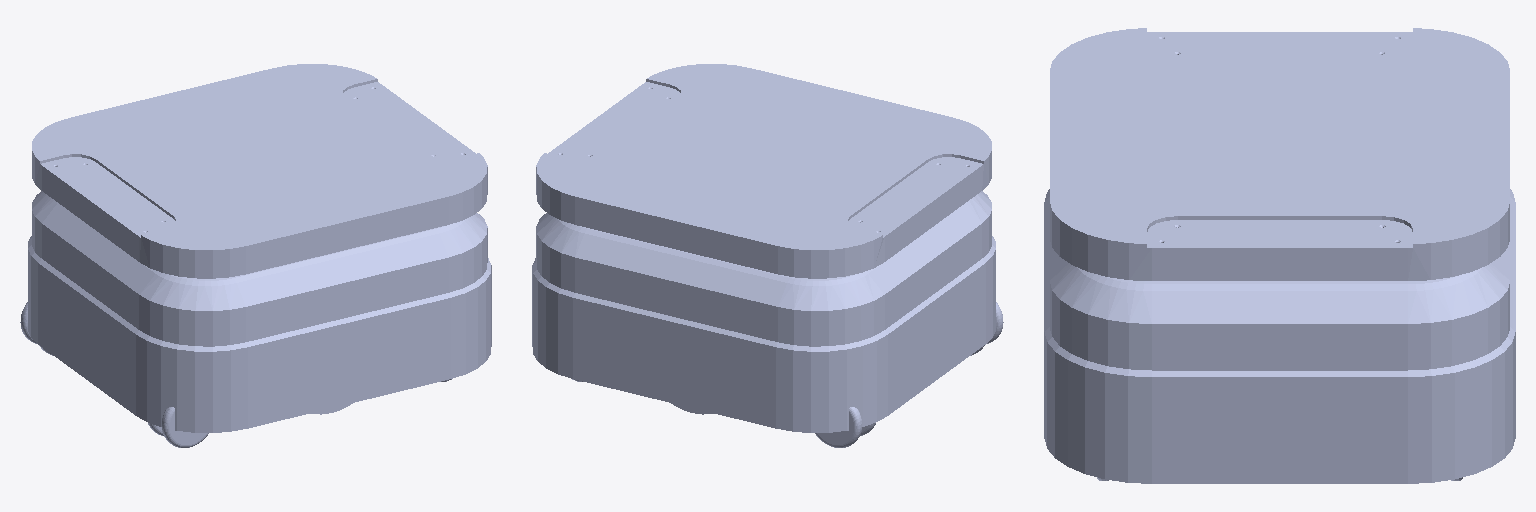
--- What the picture shows (computed from the rendered views, not written in the file) ---
3 views of the same robot in one strip: view 1: azimuth 30°, elevation 25°; view 2: azimuth 150°, elevation 25°; view 3: azimuth 270°, elevation 25° (orthographic).
Model autoxing with 14 links and 13 joints (10 continuous, 3 fixed), rooted at base_footprint, posed all joints at 0.
Visible links, largest first — view 1: chassis, wheel_rb; view 2: chassis, wheel_lb; view 3: chassis.
Link boxes in pixels (x1,y1,x2,y2): chassis: (28, 64, 491, 432); wheel_rb: (148, 407, 208, 447); chassis: (532, 64, 995, 432); wheel_lb: (815, 407, 875, 447); chassis: (1044, 28, 1515, 483).
Size in the robot's own frame: 0.51 by 0.46 by 0.2875 metres.
11 mesh visuals loaded from 10 distinct referenced files (10 binary STL).

robot.urdf — autoxing:
<?xml version="1.0" encoding="utf-8"?>
<!-- This URDF was automatically created by SolidWorks to URDF Exporter! Originally created by Stephen Brawner ([email redacted]) 
     Commit Version: 1.6.0-4-g7f85cfe  Build Version: 1.6.7995.38578
     For more information, please see http://wiki.ros.org/sw_urdf_exporter -->
<robot
  name="autoxing">
   <link
    name="base_footprint">
   
  </link>
    
  <link
    name="chassis">
    <inertial>
      <origin
        xyz="0.000149481705181087 -0.000120539934038988 0.152123091903942"
        rpy="0 0 0" />
      <mass
        value="116.0" />
      <inertia ixx="2.0609325089599997" ixy="0.0" ixz="0.0" iyy="4.34999826" iyz="0.0" izz="5.54093111696"/>
    </inertial>
    <visual>
      <origin
        xyz="0 0 0"
        rpy="0 0 0" />
      <geometry>
        <mesh
          filename="package://autoxing/meshes/base_link.STL" />
      </geometry>
      <material
        name="">
        <color
          rgba="0.792156862745098 0.819607843137255 0.933333333333333 1" />
      </material>
    </visual>
    <collision>
      <origin
        xyz="0 0 0"
        rpy="0 0 0" />
      <geometry>
        <mesh
          filename="package://autoxing/meshes/base_link.STL" />
      </geometry>
    </collision>
  </link>
 
  <joint
    name="base_link_it"
    type="fixed">
    <origin
      xyz="0 0 0"
      rpy="0 0 0" />
    <parent
      link="base_footprint" />
    <child
      link="chassis" />
    <axis
      xyz="0 0 0" />
  </joint>
 
  <link
    name="wheel_left">
    <inertial>
      <origin
        xyz="-1.38777878078145E-16 -7.97972798949331E-17 0.0399999999999999"
        rpy="0 0 0" />
      <mass
        value="1" />
      <inertia ixx="0.001061895408575" ixy="0.0" ixz="0.0" iyy="0.001061895408575" iyz="0.0" izz="0.001953125"/>
    </inertial>
    <visual>
      <origin
        xyz="0 0 0"
        rpy="0 0 0" />
      <geometry>
        
	<cylinder radius="0.08" length="0.05"/>
      </geometry>
      <material
        name="">
        <color
          rgba="0.792156862745098 0.819607843137255 0.933333333333333 1" />
      </material>
    </visual>
    <collision>
   
      <origin
        xyz="0 0 0"
        rpy="0 0 0" />
      <geometry>
	<cylinder radius="0.08" length="0.05"/>
      </geometry>
    </collision>
  </link>
  <joint
    name="wheel_left_joint"
    type="continuous">
    <origin
      xyz="0 0.160461283375568 0.001"
      rpy="-1.5707963267949 0 0" />
    <parent
      link="chassis" />
    <child
      link="wheel_left" />
    <axis
      xyz="0 0 1" />
  </joint>
  <link
    name="wheel_right">
    <inertial>
      <origin
        xyz="-1.38777878078145E-17 1.04083408558608E-17 0.0399999999999999"
        rpy="0 0 0" />
      <mass
        value="1" />
       <inertia ixx="0.001061895408575" ixy="0.0" ixz="0.0" iyy="0.001061895408575" iyz="0.0" izz="0.001953125"/>
    </inertial>
    <visual>
      <origin
        xyz="0 0 0"
        rpy="0 0 0" />
      <geometry>
         
	<cylinder radius="0.08" length="0.05"/>
      </geometry>
      <material
        name="">
        <color
          rgba="0.792156862745098 0.819607843137255 0.933333333333333 1" />
      </material>
    </visual>
    <collision>
      <origin
        xyz="0 0 0"
        rpy="0 0 0" />
      <geometry>
        
          <cylinder radius="0.08" length="0.05"/>
      </geometry>
    </collision>
  </link>
  <joint
    name="wheel_right_joint"
    type="continuous">
    <origin
      xyz="0 -0.160461283375569 0.001"
      rpy="1.5707963267949 0 0" />
    <parent
      link="chassis" />
    <child
      link="wheel_right" />
    <axis
      xyz="0 0 -1" />
  </joint>
  <link
    name="casterhub_front_left">
    <inertial>
      <origin
        xyz="0.00631384572851573 -0.00939402891827468 -7.51390670640402E-05"
        rpy="0 0 0" />
      <mass
        value="0.0507301916211751" />
      <inertia
        ixx="2.13076622334858E-05"
        ixy="-4.77213305526971E-12"
        ixz="-2.15459256741868E-07"
        iyy="2.12936580660824E-05"
        iyz="-3.18977689924232E-11"
        izz="9.21167172411273E-06" />
    </inertial>
    <visual>
      <origin
        xyz="0 0 0"
        rpy="0 0 0" />
      <geometry>
        <mesh
          filename="package://autoxing/meshes/casterhub_front_left.STL" />
      </geometry>
      <material
        name="">
        <color
          rgba="0.792156862745098 0.819607843137255 0.933333333333333 1" />
      </material>
    </visual>
    <collision>
      <origin
        xyz="0 0 0"
        rpy="0 0 0" />
      <geometry>
        <mesh
          filename="package://autoxing/meshes/casterhub_front_left.STL" />
      </geometry>
    </collision>
  </link>
  <joint
    name="casterhub_front_left_joint"
    type="continuous">
    <origin
      xyz="0.191588642505787 0.16140857130743 0.00300000000000051"
      rpy="0 0 0" />
    <parent
      link="chassis" />
    <child
      link="casterhub_front_left" />
    <axis
      xyz="0 0 1" />
       <dynamics damping="0.01" friction="0.0" />
  </joint>
  <link
    name="wheel_lf">
    <inertial>
      <origin
        xyz="2.77555756156289E-17 3.46944695195361E-17 0.0275000000000001"
        rpy="0 0 0" />
      <mass
        value="1" />
      <inertia ixx="0.001061895408575" ixy="0.0" ixz="0.0" iyy="0.001061895408575" iyz="0.0" izz="0.001953125"/>
    </inertial>
    <visual>
      <origin
        xyz="0 0 0"
        rpy="0 0 0" />
      <geometry>
        <mesh
          filename="package://autoxing/meshes/wheel_lf.STL" />
      </geometry>
      <material
        name="">
        <color
          rgba="0.792156862745098 0.819607843137255 0.933333333333333 1" />
      </material>
    </visual>
    <collision>
      <origin
        xyz="0 0 0.025"
        rpy="0 0 0" />
      <geometry>
        <cylinder radius="0.0375" length="0.055" />
      </geometry>
    </collision>
  </link>
  <joint
    name="wheel_lf_joint"
    type="continuous">
    <origin
      xyz="-0.0185912035639785 -0.036894016223973 -0.0450000000000003"
      rpy="-1.5707963267949 0 0" />
    <parent
      link="casterhub_front_left" />
    <child
      link="wheel_lf" />
    <axis
      xyz="0 0 -1" />
  </joint>
  <link
    name="casterhub_front_right">
    <inertial>
      <origin
        xyz="0.00631384572851623 0.00939400352967251 -7.51390670643212E-05"
        rpy="0 0 0" />
      <mass
        value="0.0507301916211753" />
      <inertia
        ixx="2.13076622334862E-05"
        ixy="0"
        ixz="0"
        iyy="2.12936580660827E-05"
        iyz="0"
        izz="9.21167172411275E-06" />
    </inertial>
    <visual>
      <origin
        xyz="0 0 0"
        rpy="0 0 0" />
      <geometry>
        <mesh
          filename="package://autoxing/meshes/casterhub_front_right.STL" />
      </geometry>
      <material
        name="">
        <color
          rgba="0.792156862745098 0.819607843137255 0.933333333333333 1" />
      </material>
    </visual>
    <collision>
      <origin
        xyz="0 0 0"
        rpy="0 0 0" />
      <geometry>
        <mesh
          filename="package://autoxing/meshes/casterhub_front_right.STL" />
      </geometry>
    </collision>
  </link>
  <joint
    name="casterhub_front_right_joint"
    type="continuous">
    <origin
      xyz="0.191588642505786 -0.161408571307431 0.00300000000000041"
      rpy="0 0 0" />
    <parent
      link="chassis" />
    <child
      link="casterhub_front_right" />
    <axis
      xyz="0 0 1" />
       <dynamics damping="0.01" friction="0.0" />
  </joint>
  <link
    name="wheel_rf">
    <inertial>
      <origin
        xyz="-5.55111512312578E-17 -2.77555756156289E-17 0.0275"
        rpy="0 0 0" />
      <mass
        value="1" />
        <inertia ixx="0.001061895408575" ixy="0.0" ixz="0.0" iyy="0.001061895408575" iyz="0.0" izz="0.001953125"/>
    </inertial>
    <visual>
      <origin
        xyz="0 0 0"
        rpy="0 0 0" />
      <geometry>
        <mesh
          filename="package://autoxing/meshes/wheel_rf.STL" />
      </geometry>
      <material
        name="">
        <color
          rgba="0.792156862745098 0.819607843137255 0.933333333333333 1" />
      </material>
    </visual>
    <collision>
      <origin
        xyz="0 0 0.025"
        rpy="0 0 0" />
      <geometry>
        <cylinder radius="0.0375" length="0.055" />
      </geometry>
    </collision>
  </link>
  <joint
    name="wheel_rf_joint"
    type="continuous">
    <origin
      xyz="-0.0185912035639783 0.0368940162239737 -0.0450000000000001"
      rpy="1.5707963267949 0 0" />
    <parent
      link="casterhub_front_right" />
    <child
      link="wheel_rf" />
    <axis
      xyz="0 0 1" />
  </joint>
  <link
    name="casterhub_back_left">
    <inertial>
      <origin
        xyz="-0.00631384572595789 -0.00939400352571207 -7.51390691109341E-05"
        rpy="0 0 0" />
      <mass
        value="0.0507301916238285" />
      <inertia
        ixx="2.13076622385357E-05"
        ixy="0"
        ixz="0"
        iyy="2.12936580714444E-05"
        iyz="0"
        izz="9.21167172497116E-06" />
    </inertial>
    <visual>
      <origin
        xyz="0 0 0"
        rpy="0 0 0" />
      <geometry>
        <mesh
          filename="package://autoxing/meshes/casterhub_back_left.STL" />
      </geometry>
      <material
        name="">
        <color
          rgba="0.792156862745098 0.819607843137255 0.933333333333333 1" />
      </material>
    </visual>
    <collision>
      <origin
        xyz="0 0 0"
        rpy="0 0 0" />
      <geometry>
        <mesh
          filename="package://autoxing/meshes/casterhub_back_left.STL" />
      </geometry>
    </collision>
  </link>
  <joint
    name="casterhub_back_left_joint"
    type="continuous">
    <origin
      xyz="-0.191588642505784 0.15140857130743 0.00300000000000039"
      rpy="0 0 3.14159" />
    <parent
      link="chassis" />
    <child
      link="casterhub_back_left" />
    <axis
      xyz="0 0 1" />
       <dynamics damping="0.01" friction="0.0" />
  </joint>
  <link
    name="wheel_lb">
    <inertial>
      <origin
        xyz="5.55111512312578E-17 2.42861286636753E-17 0.0275"
        rpy="0 0 0" />
      <mass
        value="1" />
          <inertia ixx="0.001061895408575" ixy="0.0" ixz="0.0" iyy="0.001061895408575" iyz="0.0" izz="0.001953125"/>
    </inertial>
    <visual>
      <origin
        xyz="0 0 0"
        rpy="0 0 0" />
      <geometry>
        <mesh
          filename="package://autoxing/meshes/wheel_lb.STL" />
      </geometry>
      <material
        name="">
        <color
          rgba="0.792156862745098 0.819607843137255 0.933333333333333 1" />
      </material>
    </visual>
    <collision>
      <origin
        xyz="0 0 0.025"
        rpy="0 0 0" />
      <geometry>
       <cylinder radius="0.0375" length="0.055" />
      </geometry>
    </collision>
  </link>
  <joint
    name="wheel_lb_joint"
    type="continuous">
    <origin
      xyz="0.0185912035639781 -0.0368940162239735 -0.0450000000000004"
      rpy="-1.5707963267949 0 0" />
    <parent
      link="casterhub_back_left" />
    <child
      link="wheel_lb" />
    <axis
      xyz="0 0 -1" />
  </joint>
  <link
    name="casterhub_back_right">
    <inertial>
      <origin
        xyz="-0.00631384572595783 0.00939402892223568 -7.51390691110208E-05"
        rpy="0 0 0" />
      <mass
        value="0.0507301916238286" />
      <inertia
        ixx="2.1307662238536E-05"
        ixy="-4.77268550032231E-12"
        ixz="2.15459261528391E-07"
        iyy="2.12936580714447E-05"
        iyz="3.19056366466023E-11"
        izz="9.21167172497116E-06" />
    </inertial>
    <visual>
      <origin
        xyz="0 0 0"
        rpy="0 0 0" />
      <geometry>
        <mesh
          filename="package://autoxing/meshes/casterhub_back_right.STL" />
      </geometry>
      <material
        name="">
        <color
          rgba="0.792156862745098 0.819607843137255 0.933333333333333 1" />
      </material>
    </visual>
    <collision>
      <origin
        xyz="0 0 0"
        rpy="0 0 0" />
      <geometry>
        <mesh
          filename="package://autoxing/meshes/casterhub_back_right.STL" />
      </geometry>
    </collision>
  </link>
  <joint
    name="casterhub_back_right_joint"
    type="continuous">
    <origin
      xyz="-0.191588642505784 -0.151408571307431 0.00300000000000018"
      rpy="0 0 3.14159" />
    <parent
      link="chassis" />
    <child
      link="casterhub_back_right" />
    <axis
      xyz="0 0 1" />
       <dynamics damping="0.01" friction="0.0" />
  </joint>
  <link
    name="wheel_rb">
    <inertial>
      <origin
        xyz="-3.33066907387547E-16 2.84494650060196E-16 0.0275"
        rpy="0 0 0" />
      <mass
        value="1" />
      <inertia ixx="0.001061895408575" ixy="0.0" ixz="0.0" iyy="0.001061895408575" iyz="0.0" izz="0.001953125"/>
    </inertial>
    <visual>
      <origin
        xyz="0 0 0"
        rpy="0 0 0" />
      <geometry>
        <mesh
          filename="package://autoxing/meshes/wheel_rb.STL" />
      </geometry>
      <material
        name="">
        <color
          rgba="0.792156862745098 0.819607843137255 0.933333333333333 1" />
      </material>
    </visual>
    <collision>
      <origin
        xyz="0 0 0.025"
        rpy="0 0 0" />
      <geometry>
       <cylinder radius="0.0375" length="0.055" />
      </geometry>
    </collision>
  </link>
  <joint
    name="wheel_rb_joint"
    type="continuous">
    <origin
      xyz="0.0185912035639779 0.0368940162239737 -0.0450000000000001"
      rpy="1.5707963267949 0 0" />
    <parent
      link="casterhub_back_right" />
    <child
      link="wheel_rb" />
    <axis
      xyz="0 0 1" />
  </joint>
  <link
    name="lidar">
    <inertial>
      <origin
        xyz="-2.77555756156289E-17 0 -0.005"
        rpy="0 0 0" />
      <mass
        value="0.000785398163397448" />
      <inertia
        ixx="1.14537232162128E-08"
        ixy="0"
        ixz="0"
        iyy="1.14537232162128E-08"
        iyz="0"
        izz="9.8174770424681E-09" />
    </inertial>
    <visual>
      <origin
        xyz="0 0 0"
        rpy="0 0 0" />
      <geometry>
        <mesh
          filename="package://autoxing/meshes/lidar.STL" />
      </geometry>
      <material
        name="">
        <color
          rgba="0.792156862745098 0.819607843137255 0.933333333333333 1" />
      </material>
    </visual>
    <collision>
      <origin
        xyz="0 0 0"
        rpy="0 0 0" />
      <geometry>
        <mesh
          filename="package://autoxing/meshes/lidar.STL" />
      </geometry>
    </collision>
  </link>
  <joint
    name="lidar_joint"
    type="fixed">
    <origin
      xyz="0.00671416680612409 0.00186793926091405 0.158"
      rpy="0 0 0" />
    <parent
      link="chassis" />
    <child
      link="lidar" />
    <axis
      xyz="0 0 0" />
  </joint>
    <!--imu_sensor-->
     <link
    name="imu_link">
    <inertial>
      <origin
        xyz="-2.77555756156289E-17 0 -0.005"
        rpy="0 0 0" />
      <mass
        value="0.000785398163397448" />
      <inertia
        ixx="1.14537232162128E-08"
        ixy="0"
        ixz="-3.39253103278279E-24"
        iyy="1.14537232162128E-08"
        iyz="-1.03950157856018E-23"
        izz="9.8174770424681E-09" />
    </inertial>
    <visual>
      <origin
        xyz="0 0 0"
        rpy="0 0 0" />
      <geometry>
        <mesh
          filename="package://autoxing/meshes/lidar.STL" />
      </geometry>
      <material
        name="">
        <color
          rgba="0.792156862745098 0.819607843137255 0.933333333333333 1" />
      </material>
    </visual>
    <collision>
      <origin
        xyz="0 0 0"
        rpy="0 0 0" />
      <geometry>
        <mesh
          filename="package://autoxing/meshes/lidar.STL" />
      </geometry>
    </collision>
  </link>
  <joint
    name="imu_joint"
    type="fixed">
    <origin
      xyz="0.00671416680612409 0.00186793926091405 0.1"
      rpy="0 0 0" />
    <parent
      link="chassis" />
    <child
      link="imu_link" />
    <axis
      xyz="0 0 0" />
  </joint>
   <gazebo reference="chassis">
  	<material>Gazebo/Turquoise </material>
  </gazebo>
  <gazebo reference="wheel_left">
  	<mu1>200.0</mu1>
  	<mu2>200.0</mu2>
  	<kp>10000000</kp>
  	<kd>1.0</kd>
  	<material>Gazebo/FlatBlack</material>
  </gazebo>
   <gazebo reference="wheel_right">
  	<mu1>200.0</mu1>
  	<mu2>200.0</mu2>
  	<kp>10000000</kp>
  	<kd>1.0</kd>   
  	<material>Gazebo/FlatBlack</material>
  </gazebo>
   <gazebo reference="lidar">
  	<material>Gazebo/Green</material>
  </gazebo>
   <gazebo reference="wheel_lf">
  	<mu1>0.01</mu1>
  	<mu2>0.01</mu2>
  	<kp>10000000</kp>
  	<kd>1.0</kd>   
  	<material>Gazebo/FlatBlack</material>
  </gazebo>
   <gazebo reference="wheel_rf">
  	<mu1>0.01</mu1>
  	<mu2>0.01</mu2>
  	<kp>10000000</kp>
  	<kd>1.0</kd>   
  	<material>Gazebo/FlatBlack</material>
  </gazebo>
   <gazebo reference="wheel_lb">
  	<mu1>0.01</mu1>
  	<mu2>0.01</mu2>
  	<kp>10000000</kp>
  	<kd>1.0</kd>   
  	<material>Gazebo/FlatBlack</material>
  </gazebo>
   <gazebo reference="wheel_rb">
    <mu1>0.01</mu1>
  	<mu2>0.01</mu2>
  	<kp>10000000</kp>
  	<kd>1.0</kd> 
  	<material>Gazebo/FlatBlack</material>
  </gazebo>
   <!-- adding diff drive -->
        <gazebo>
      <plugin name="diff_drive_controller" filename="libgazebo_ros_diff_drive.so">
        <legacyMode>false</legacyMode>
        <alwaysOn>true</alwaysOn>
        <updateRate>50</updateRate>
        <leftJoint>wheel_left_joint</leftJoint>
        <rightJoint>wheel_right_joint</rightJoint>
        <wheelSeparation>0.445208</wheelSeparation>
        <wheelDiameter>0.16</wheelDiameter>
        <wheelTorque>10</wheelTorque>
        <publishTf>1</publishTf>
        <odometryFrame>odom</odometryFrame>
        <commandTopic>cmd_vel</commandTopic>
        <odometryTopic>odom</odometryTopic>
        <robotBaseFrame>base_footprint</robotBaseFrame>
        <wheelAcceleration>2.8</wheelAcceleration>
        <publishWheelJointState>true</publishWheelJointState>
        <publishWheelTF>false</publishWheelTF>
        <odometrySource>odom</odometrySource>
        <rosDebugLevel>Debug</rosDebugLevel>
      </plugin>
    </gazebo>
    <transmission name="left_wheel_trans">
    <type>transmission_interface/SimpleTransmission</type>
    <joint name="wheel_left_joint">
      <hardwareInterface>hardware_interface/VelocityJointInterface</hardwareInterface>
    </joint>
    <actuator name="left_wheel_motor">
      <hardwareInterface>hardware_interface/VelocityJointInterface</hardwareInterface>
      <mechanicalReduction>1</mechanicalReduction>
    </actuator>
  </transmission>
  <transmission name="right_wheel_trans">
    <type>transmission_interface/SimpleTransmission</type>
    <joint name="wheel_right_joint">
      <hardwareInterface>hardware_interface/VelocityJointInterface</hardwareInterface>
    </joint>
    <actuator name="right_wheel_motor">
      <hardwareInterface>hardware_interface/VelocityJointInterface</hardwareInterface>
      <mechanicalReduction>1</mechanicalReduction>
    </actuator>
  </transmission>
     <gazebo>
    <plugin filename="libgazebo_ros_p3d.so" name="p3d_base_controller">
      <alwaysOn>true</alwaysOn>
      <updateRate>50.0</updateRate>
      <bodyName>base_footprint</bodyName>
      <topicName>base_pose_ground_truth</topicName>
      <gaussianNoise>0.01</gaussianNoise>
      <frameName>map</frameName>
      <xyzOffsets>0 0 0</xyzOffsets>
      <rpyOffsets>0 0 0</rpyOffsets>
    </plugin>
  </gazebo>
  <gazebo>
    <plugin filename="libgazebo_ros_control.so" name="gazebo_ros_control">
      <controlPeriod>0.001</controlPeriod>
      <legacyModeNS>false</legacyModeNS>
    </plugin>
  </gazebo>
 <!-- hokuyo -->
  <gazebo reference="lidar">
    <sensor type="ray" name="sensor">
      <pose>0 0 0 0 0 0</pose>
      <visualize>false</visualize>
      <update_rate>40</update_rate>
      <ray>
        <scan>
          <horizontal>
            <samples>720</samples>
            <resolution>1</resolution>
            <min_angle>-1.570796</min_angle>
            <max_angle>4.712388</max_angle> <!-- 1.570796-->
          </horizontal>
        </scan>
        <range>
          <min>0.10</min>
          <max>30.0</max>
          <resolution>0.01</resolution>
        </range>
        <noise>
          <type>gaussian</type>
          <!-- Noise parameters based on published spec for Hokuyo laser
               achieving "+-30mm" accuracy at range < 10m.  A mean of 0.0m and
               stddev of 0.01m will put 99.7% of samples within 0.03m of the true
               reading. -->
          <mean>0.0</mean>
          <stddev>0.01</stddev>
        </noise>
      </ray>
      
      <plugin name="hokuyo_node" filename="libgazebo_ros_laser.so">
        <topicName>/laser/scan</topicName>
        <frameName>lidar</frameName>
      </plugin> 
    </sensor>
  </gazebo>
   <!-- imu sensor -->
     <gazebo>
    <plugin name="imu_plugin" filename="libgazebo_ros_imu.so">
      <alwaysOn>true</alwaysOn>
      <bodyName>chassis</bodyName>
      <topicName>imu</topicName>
      <serviceName>imu_service</serviceName>
      <gaussianNoise>0.0</gaussianNoise>
      <updateRate>1.0</updateRate>
    </plugin>
  </gazebo>
   <gazebo reference="imu_link">
    <gravity>true</gravity>
    <sensor name="imu_sensor" type="imu">
      <always_on>true</always_on>
      <update_rate>100</update_rate>
      <visualize>true</visualize>
      <topic>__default_topic__</topic>
      <plugin filename="libgazebo_ros_imu_sensor.so" name="imu_plugin">
        <topicName>imu</topicName>
        <bodyName>imu_link</bodyName>
        <updateRateHZ>10.0</updateRateHZ>
        <gaussianNoise>0.0</gaussianNoise>
        <xyzOffset>0 0 0</xyzOffset>
        <rpyOffset>0 0 0</rpyOffset>
        <frameName>imu_link</frameName>
        <initialOrientationAsReference>false</initialOrientationAsReference>
      </plugin>
      <pose>0 0 0 0 0 0</pose>
    </sensor>
  </gazebo>
  
      <transmission name="trans_casterhub_front_left_joint">
        <type>transmission_interface/SimpleTransmission</type>
        <joint name="casterhub_front_left_joint">
            <hardwareInterface>hardware_interface/EffortJointInterface</hardwareInterface>
        </joint>
        <actuator name="casterhub_front_left_joint_motor">
            <hardwareInterface>hardware_interface/EffortJointInterface</hardwareInterface>
            <mechanicalReduction>1</mechanicalReduction>
        </actuator>
    </transmission>
    <transmission name="trans_wheel_lf_joint">
        <type>transmission_interface/SimpleTransmission</type>
        <joint name="wheel_lf_joint">
            <hardwareInterface>hardware_interface/EffortJointInterface</hardwareInterface>
        </joint>
        <actuator name="wheel_lf_joint_motor">
            <hardwareInterface>hardware_interface/EffortJointInterface</hardwareInterface>
            <mechanicalReduction>1</mechanicalReduction>
        </actuator>
    </transmission>
    <transmission name="trans_casterhub_front_right_joint">
        <type>transmission_interface/SimpleTransmission</type>
        <joint name="casterhub_front_right_joint">
            <hardwareInterface>hardware_interface/EffortJointInterface</hardwareInterface>
        </joint>
        <actuator name="casterhub_front_right_joint_motor">
            <hardwareInterface>hardware_interface/EffortJointInterface</hardwareInterface>
            <mechanicalReduction>1</mechanicalReduction>
        </actuator>
    </transmission>
    <transmission name="trans_wheel_rf_joint">
        <type>transmission_interface/SimpleTransmission</type>
        <joint name="wheel_rf_joint">
            <hardwareInterface>hardware_interface/EffortJointInterface</hardwareInterface>
        </joint>
        <actuator name="wheel_rf_joint_motor">
            <hardwareInterface>hardware_interface/EffortJointInterface</hardwareInterface>
            <mechanicalReduction>1</mechanicalReduction>
        </actuator>
    </transmission>
    <transmission name="trans_casterhub_back_left_joint">
        <type>transmission_interface/SimpleTransmission</type>
        <joint name="casterhub_back_left_joint">
            <hardwareInterface>hardware_interface/EffortJointInterface</hardwareInterface>
        </joint>
        <actuator name="casterhub_back_left_joint_motor">
            <hardwareInterface>hardware_interface/EffortJointInterface</hardwareInterface>
            <mechanicalReduction>1</mechanicalReduction>
        </actuator>
    </transmission>
    <transmission name="trans_wheel_lb_joint">
        <type>transmission_interface/SimpleTransmission</type>
        <joint name="wheel_lb_joint">
            <hardwareInterface>hardware_interface/EffortJointInterface</hardwareInterface>
        </joint>
        <actuator name="wheel_lb_joint_motor">
            <hardwareInterface>hardware_interface/EffortJointInterface</hardwareInterface>
            <mechanicalReduction>1</mechanicalReduction>
        </actuator>
    </transmission>
    <transmission name="trans_casterhub_back_right_joint">
        <type>transmission_interface/SimpleTransmission</type>
        <joint name="casterhub_back_right_joint">
            <hardwareInterface>hardware_interface/EffortJointInterface</hardwareInterface>
        </joint>
        <actuator name="casterhub_back_right_joint_motor">
            <hardwareInterface>hardware_interface/EffortJointInterface</hardwareInterface>
            <mechanicalReduction>1</mechanicalReduction>
        </actuator>
    </transmission>
    <transmission name="trans_wheel_rb_joint">
        <type>transmission_interface/SimpleTransmission</type>
        <joint name="wheel_rb_joint">
            <hardwareInterface>hardware_interface/EffortJointInterface</hardwareInterface>
        </joint>
        <actuator name="wheel_rb_joint_motor">
            <hardwareInterface>hardware_interface/EffortJointInterface</hardwareInterface>
            <mechanicalReduction>1</mechanicalReduction>
        </actuator>
    </transmission>
    
  
</robot>
